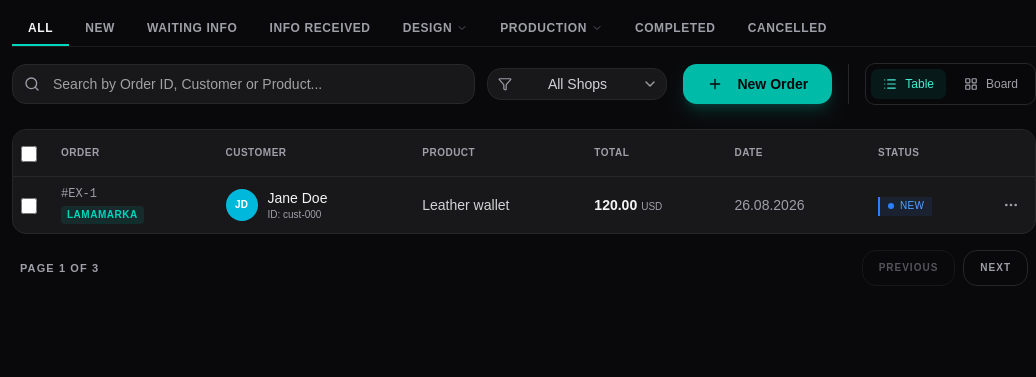
Test: OrdersLayout bulk selection › shows the bulk bar only once a row is selected
This screenshot has width=1036, height=377.
Expected: the text "1 selected" is not shown
Click the checkbox named "Select order EX-1".
click(29, 206)  # box [21, 198, 37, 214]
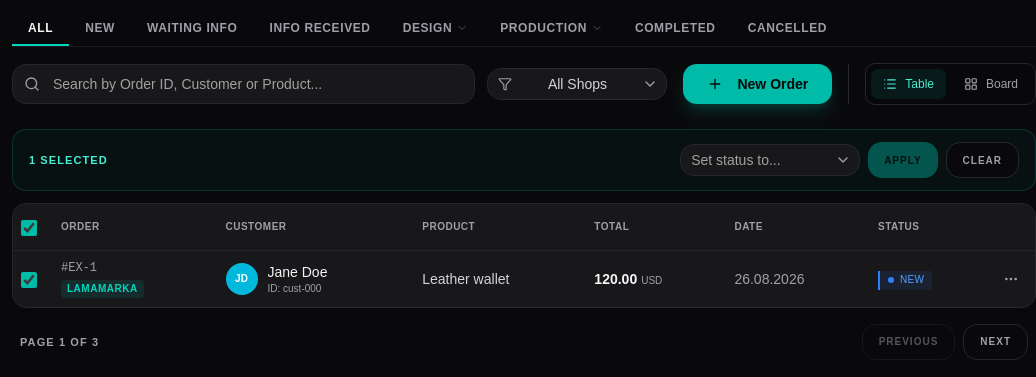
Result: the text "1 selected" is shown at [29, 152, 108, 168]
